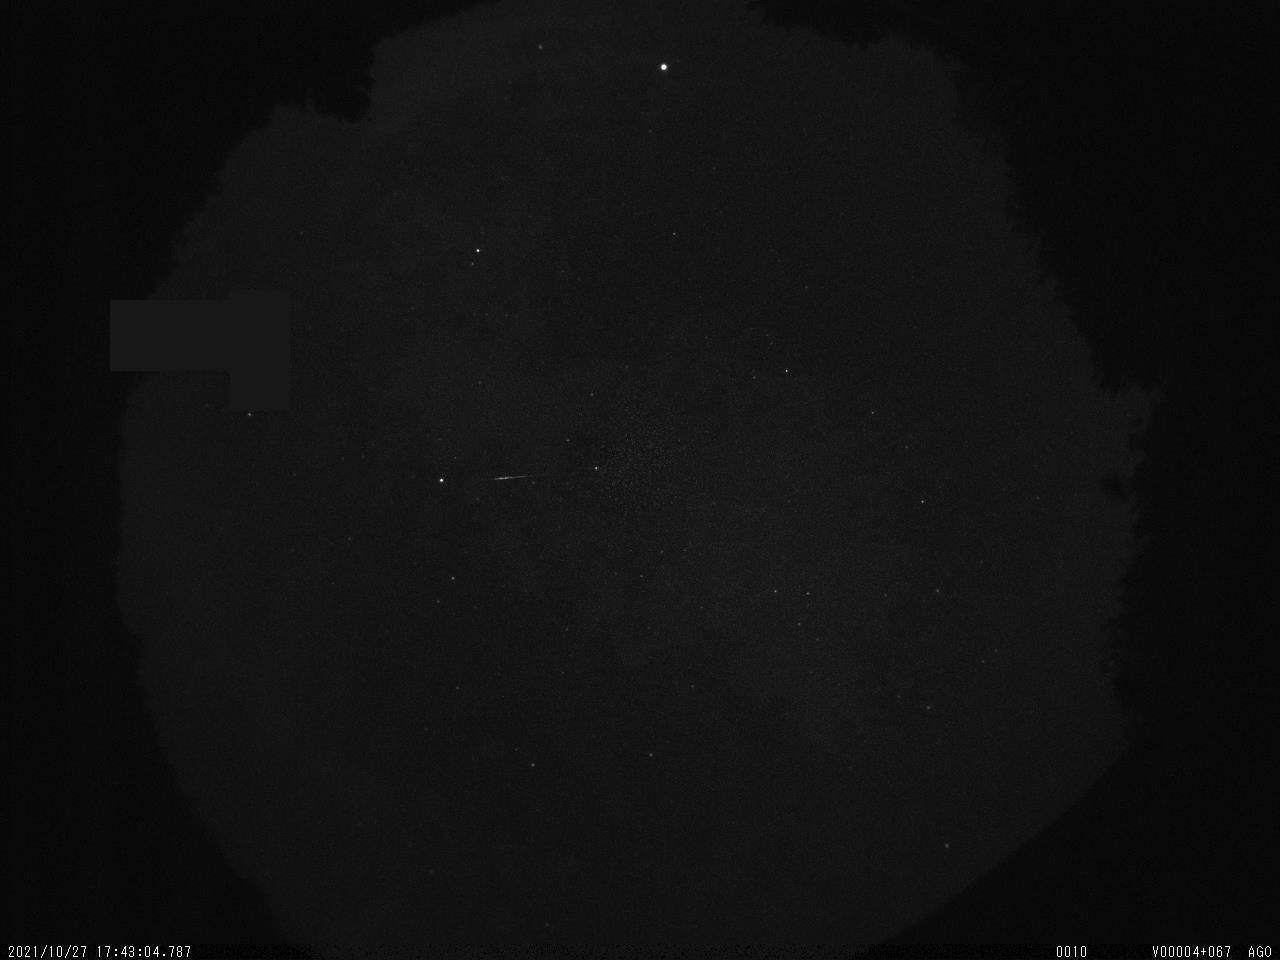Meteor: (489, 468, 540, 486)
